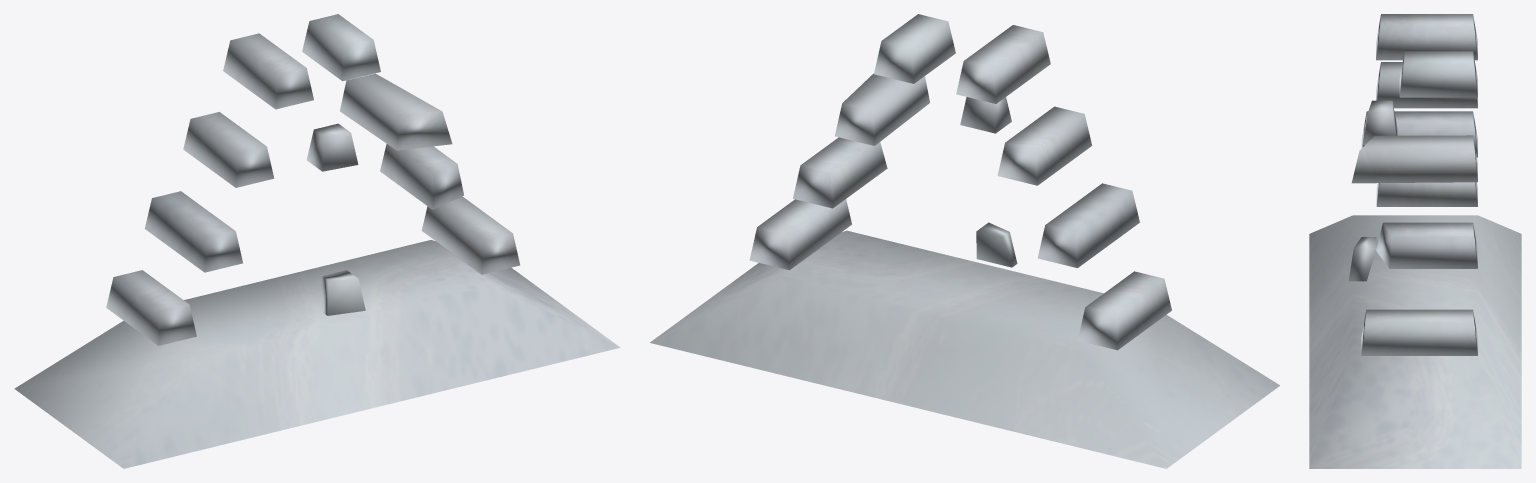
The model's file is Wood_Pile_4_Snow.fbx.
3 renders of one model, left to right at view 1: azimuth 30°, elevation 25°; view 2: azimuth 150°, elevation 25°; view 3: azimuth 270°, elevation 25°, orthographic. The views are drawn at different scales.
Parts seen in each view (by area): view 1: Wood_Pile_4_Snow; view 2: Wood_Pile_4_Snow; view 3: Wood_Pile_4_Snow.
Boxes of the visible parts, <box> form: Wood_Pile_4_Snow: <box>14,14,620,468</box>; Wood_Pile_4_Snow: <box>650,14,1279,468</box>; Wood_Pile_4_Snow: <box>1309,14,1521,468</box>.
Bounding box in the file's own units: 231 × 142 × 88.03.
